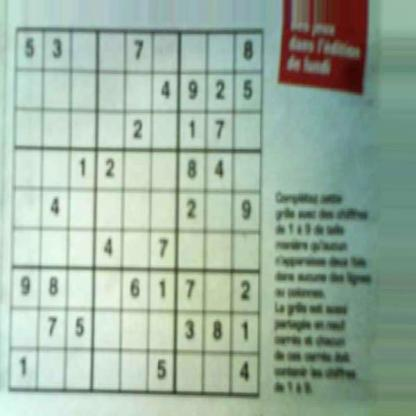sudoku: (5, 25, 268, 401)
